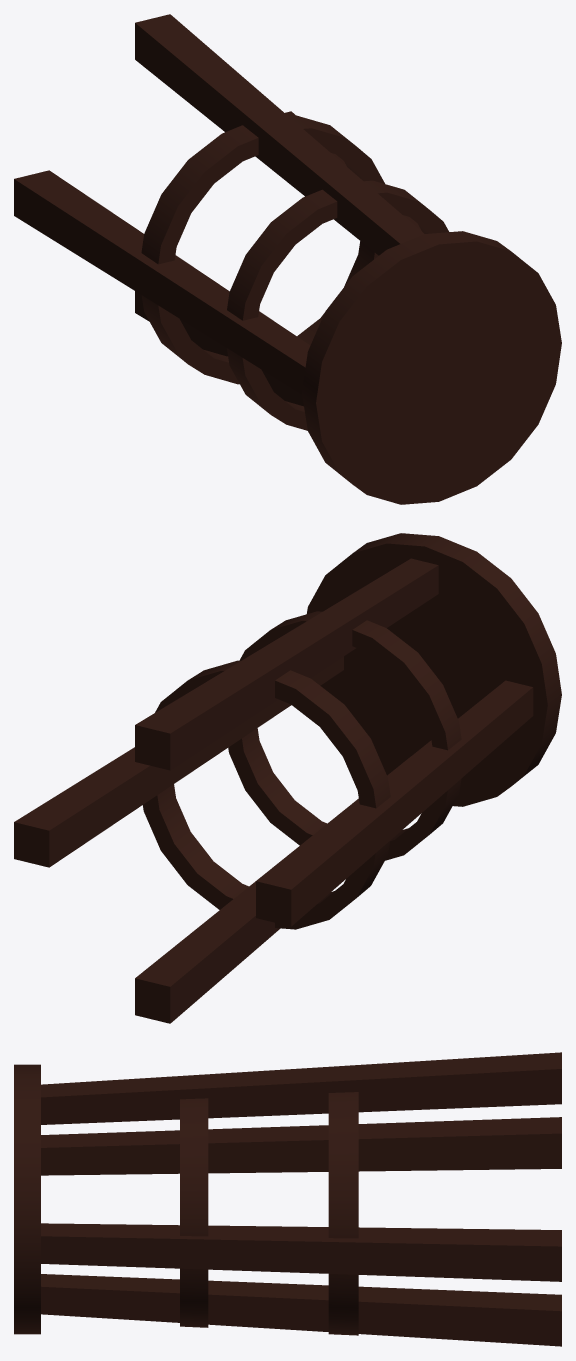
Rendered from Stool_01.obj.
3 renders of one model, top to bottom at view 1: azimuth 30°, elevation 25°; view 2: azimuth 150°, elevation 25°; view 3: azimuth 270°, elevation 25°, orthographic. The views are drawn at different scales.
Parts seen in each view (by area): view 1: pCube61; view 2: pCube61; view 3: pCube61.
Boxes of the visible parts, x1,y1,x2,y2 form: pCube61: (14, 14, 561, 504); pCube61: (14, 533, 561, 1023); pCube61: (14, 1052, 561, 1346).
Size of the model in its own units: 151 by 151 by 271.
